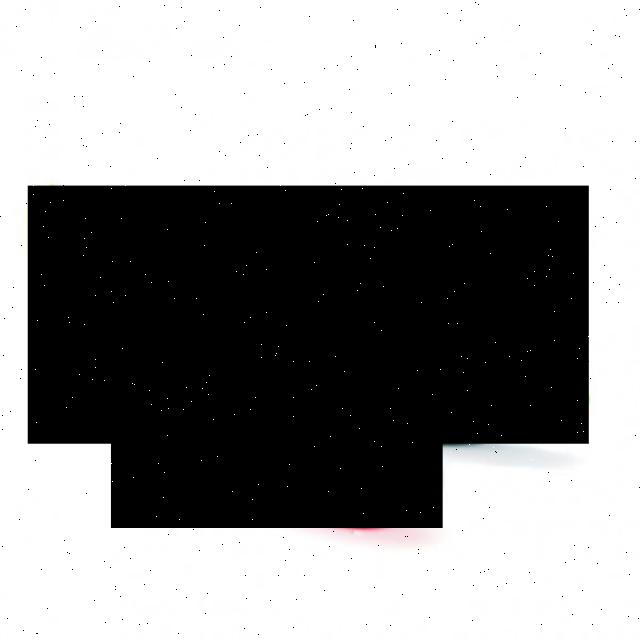Chili_Pepper: (28, 186, 589, 444), (111, 321, 443, 528)
